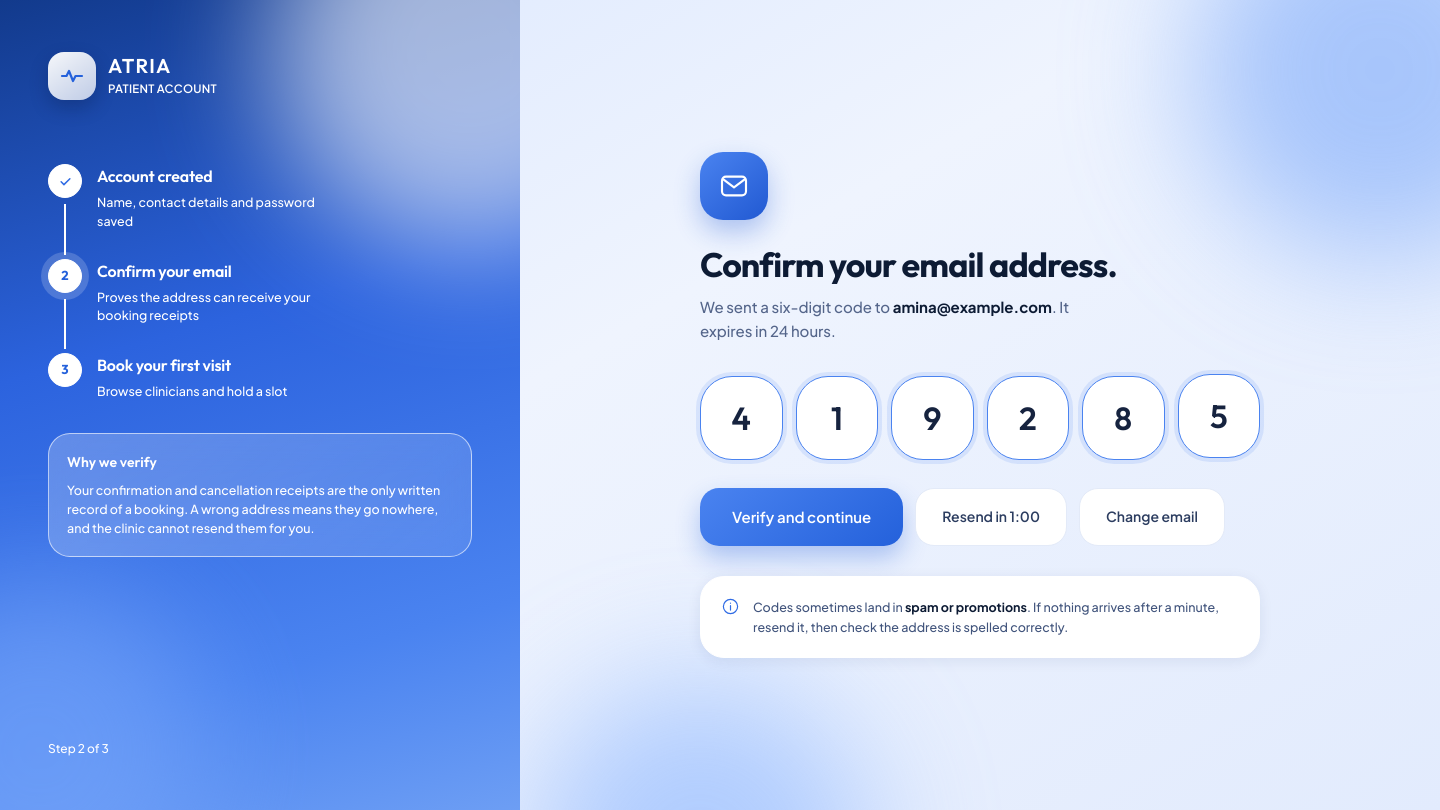
Test: VerifyEmail › keeps later digits in place when one in the middle is cleared
Click the field named "Digit 3 of 6".
click(932, 418)  # box [891,376,974,460]
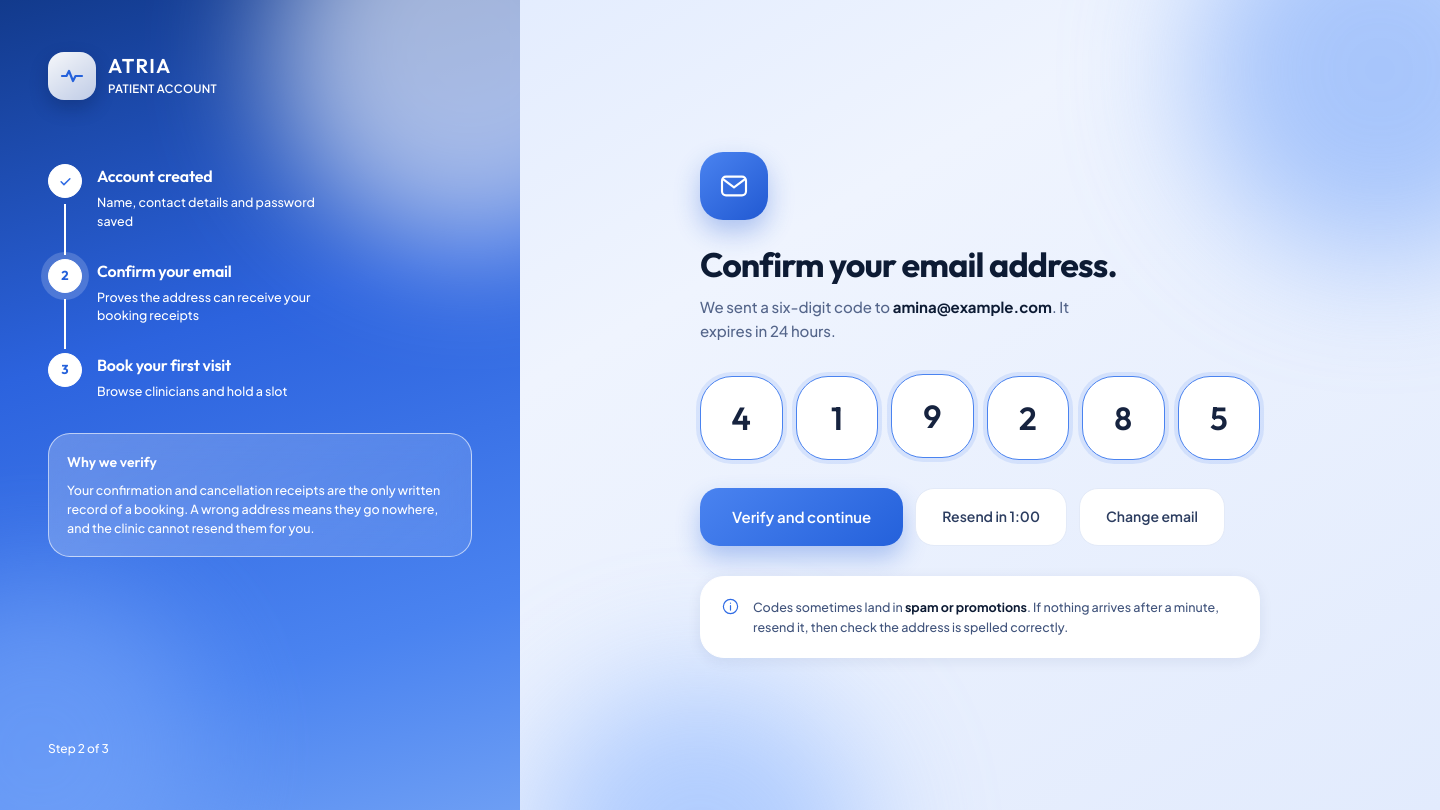
Press Backspace
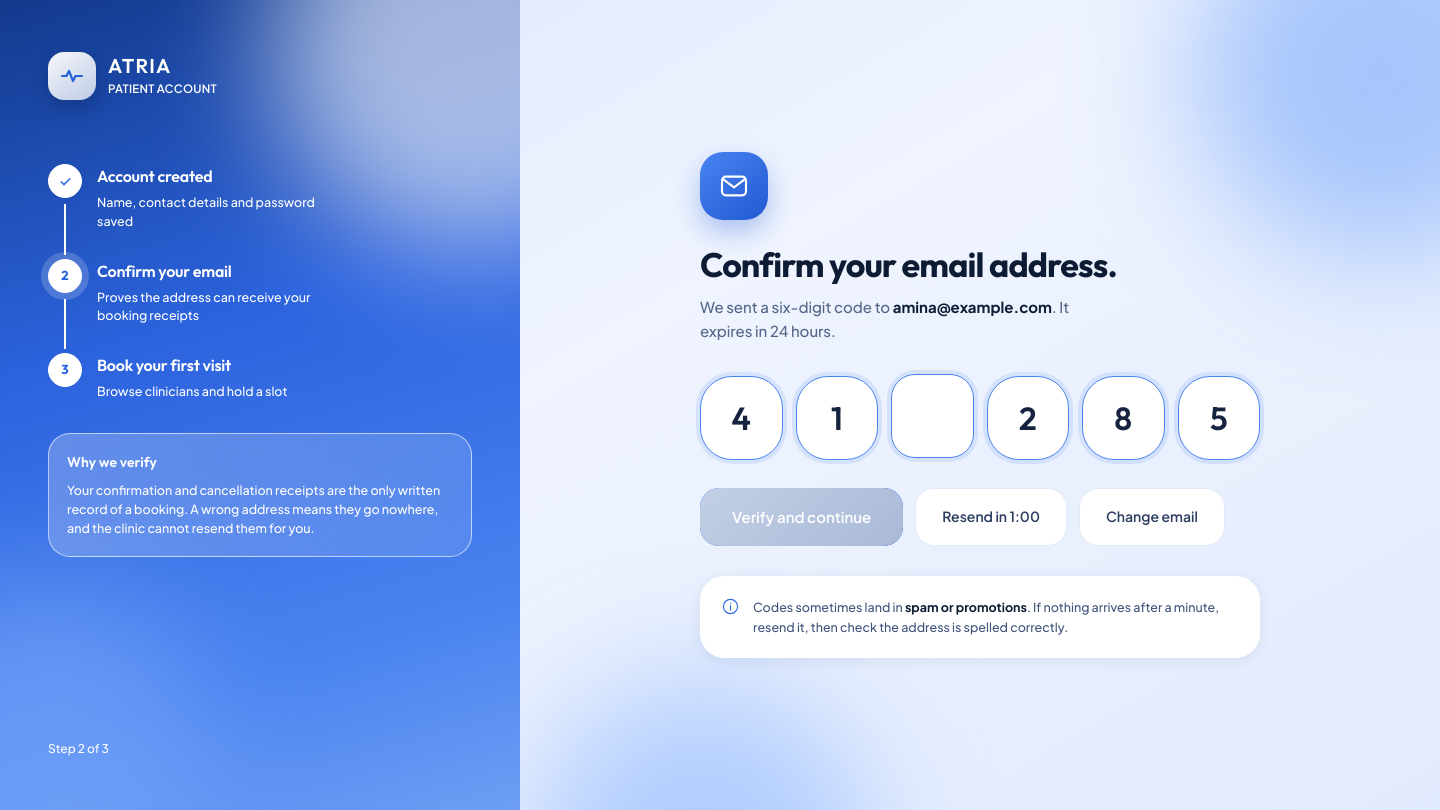
Check: the field named "Digit 4 of 6" holds "2", box [986,376,1069,460]
Check: the field named "Digit 3 of 6" is empty, box [891,374,974,458]
Check: the button "Verify and continue" is disabled, box [700,488,903,546]
